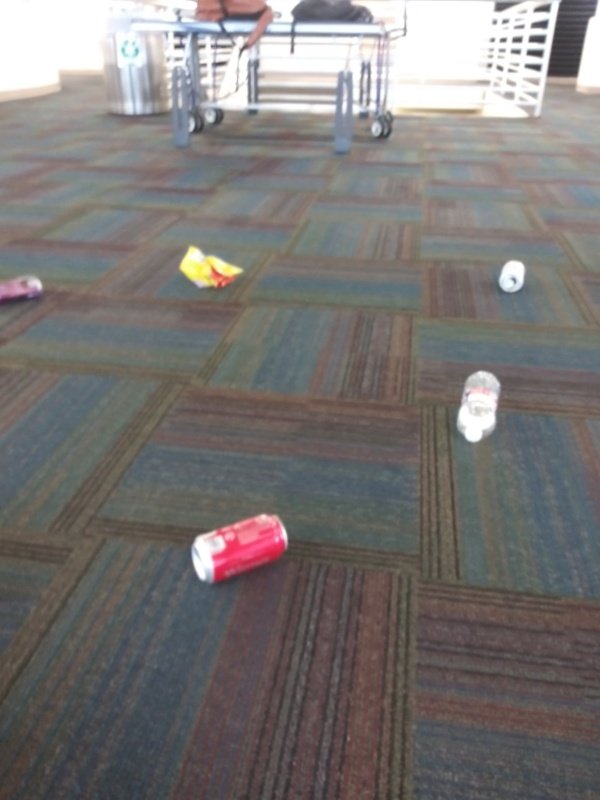bag: (176, 242, 245, 293)
bottle: (448, 367, 507, 448)
can: (186, 508, 291, 589), (1, 271, 46, 309), (494, 255, 529, 295)
